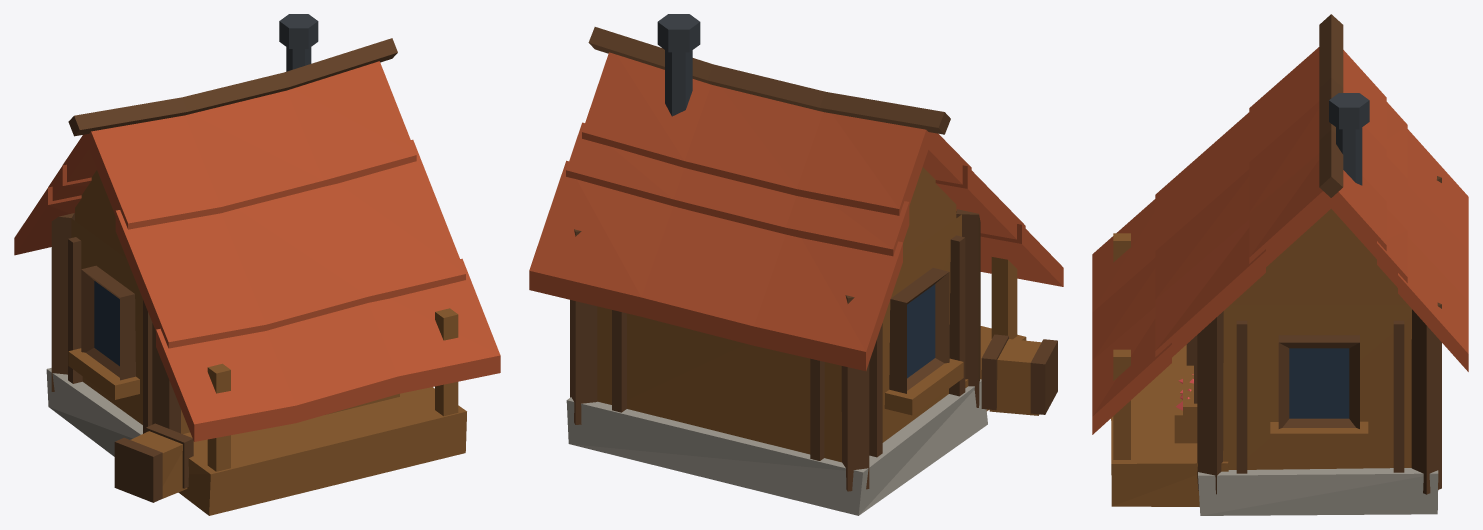
File: cabin_b.glb
3 renders of one model, left to right at view 1: azimuth 30°, elevation 25°; view 2: azimuth 150°, elevation 25°; view 3: azimuth 270°, elevation 25°, orthographic. The views are drawn at different scales.
Parts seen in each view (by area): view 1: cabin_b; view 2: cabin_b; view 3: cabin_b.
Boxes of the visible parts, x1,y1,x2,y2 form: cabin_b: (14,14,500,515); cabin_b: (529,14,1063,515); cabin_b: (1092,14,1468,515).
Size of the model in its own units: 0.6953 by 0.71 by 0.63.
